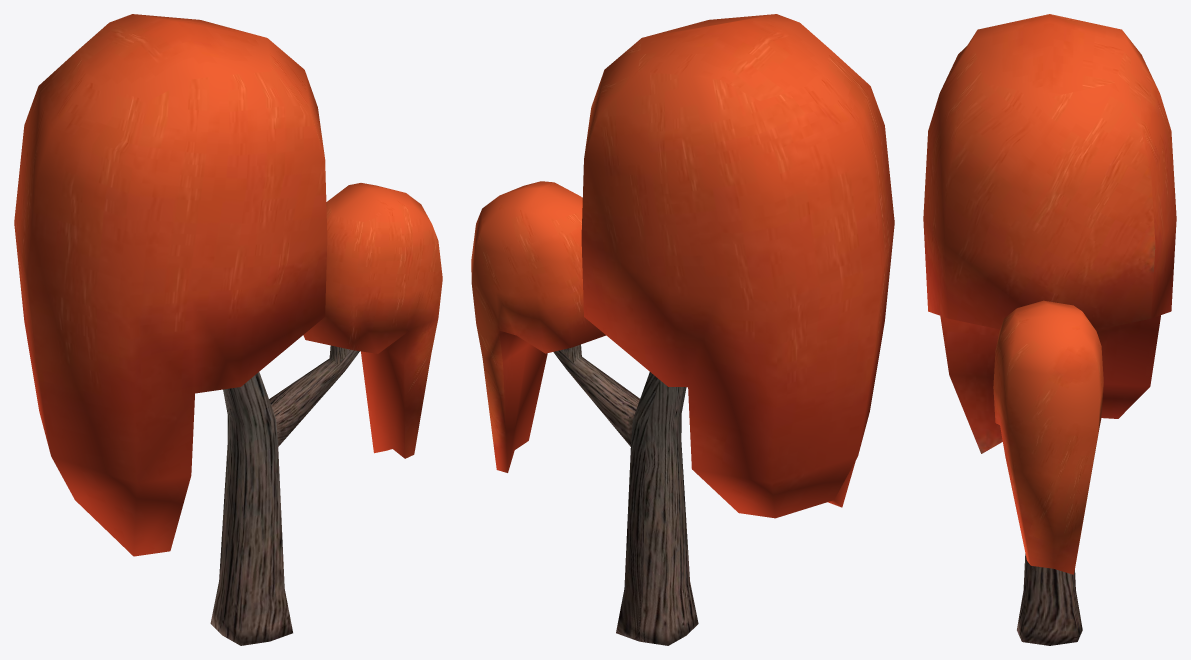
File: tree_002.glb
3 views of the same model, side by side, from view 1: azimuth 30°, elevation 25°; view 2: azimuth 150°, elevation 25°; view 3: azimuth 270°, elevation 25° (orthographic). The views are drawn at different scales.
Visible parts, largest first — view 1: tree002_leaves, tree002_trunk; view 2: tree002_leaves, tree002_trunk; view 3: tree002_leaves, tree002_trunk.
Boxes of the visible parts, x1,y1,x2,y2 form: tree002_leaves: [14, 14, 442, 556]; tree002_trunk: [210, 345, 359, 645]; tree002_leaves: [471, 14, 894, 518]; tree002_trunk: [553, 344, 698, 645]; tree002_leaves: [923, 14, 1176, 574]; tree002_trunk: [1017, 554, 1082, 645].
Size of the model in its own units: 3.34 by 4.91 by 1.96.
1 material, 1 textured.
